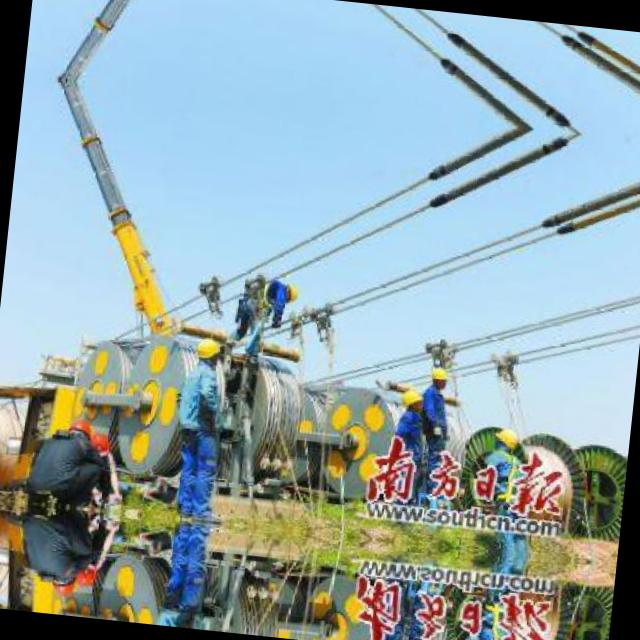helmet: (419, 357, 454, 394), (190, 331, 222, 368), (484, 422, 522, 451), (394, 384, 426, 414), (62, 413, 91, 445), (46, 568, 74, 600), (278, 278, 300, 303)
